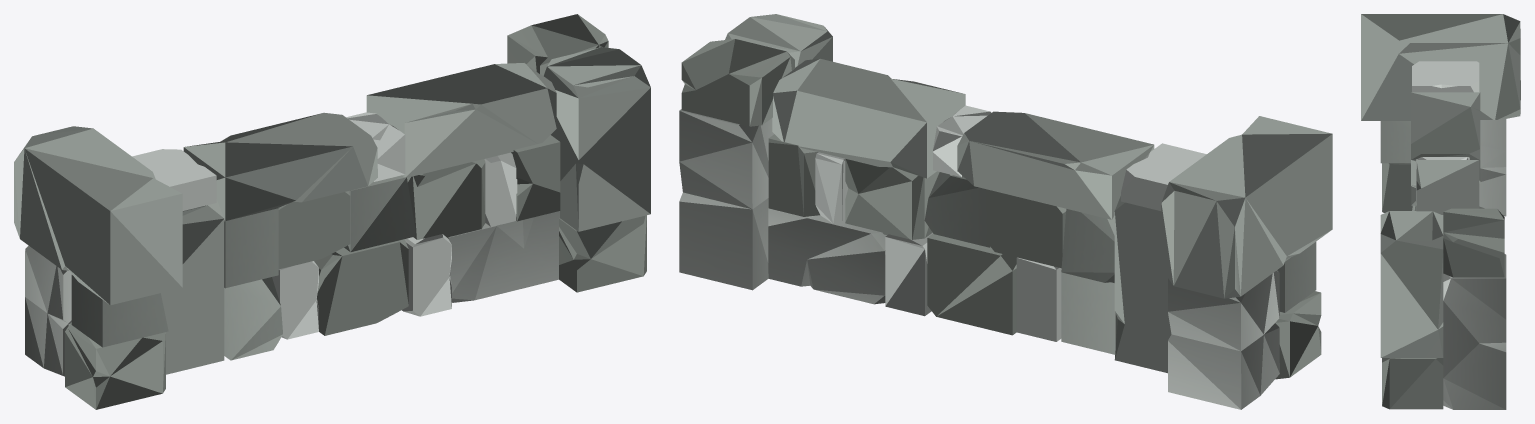
File: ZLP_Build_D_39.FBX
3 views of the same model, side by side, from view 1: azimuth 30°, elevation 25°; view 2: azimuth 150°, elevation 25°; view 3: azimuth 270°, elevation 25° (orthographic). The views are drawn at different scales.
Parts seen in each view (by area): view 1: ZLP_Build_D_39; view 2: ZLP_Build_D_39; view 3: ZLP_Build_D_39.
Part boxes in pixels (x1,y1,x2,y2): ZLP_Build_D_39: (14,14,650,409); ZLP_Build_D_39: (679,14,1332,409); ZLP_Build_D_39: (1361,14,1520,409).
Size of the model in its own units: 324 by 115 by 97.18.
